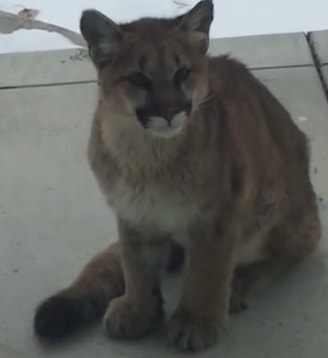Mountain Lion: (33, 5, 323, 349)
